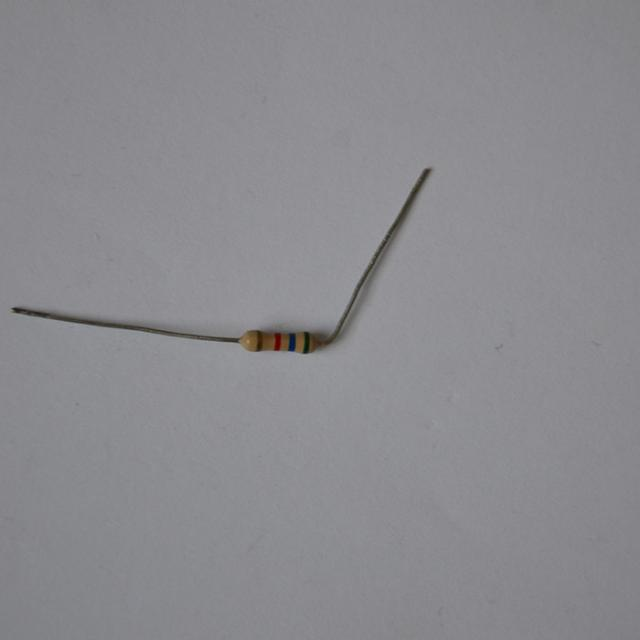blue: (289, 333, 295, 351)
gold: (257, 330, 261, 349)
green: (303, 332, 308, 352)
red: (275, 334, 281, 350)
resistor: (238, 325, 323, 361)
